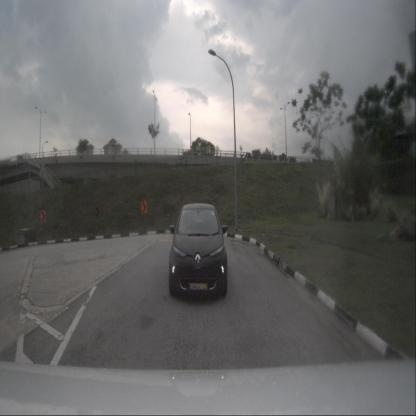vehicle-car: (168, 203, 228, 297)
